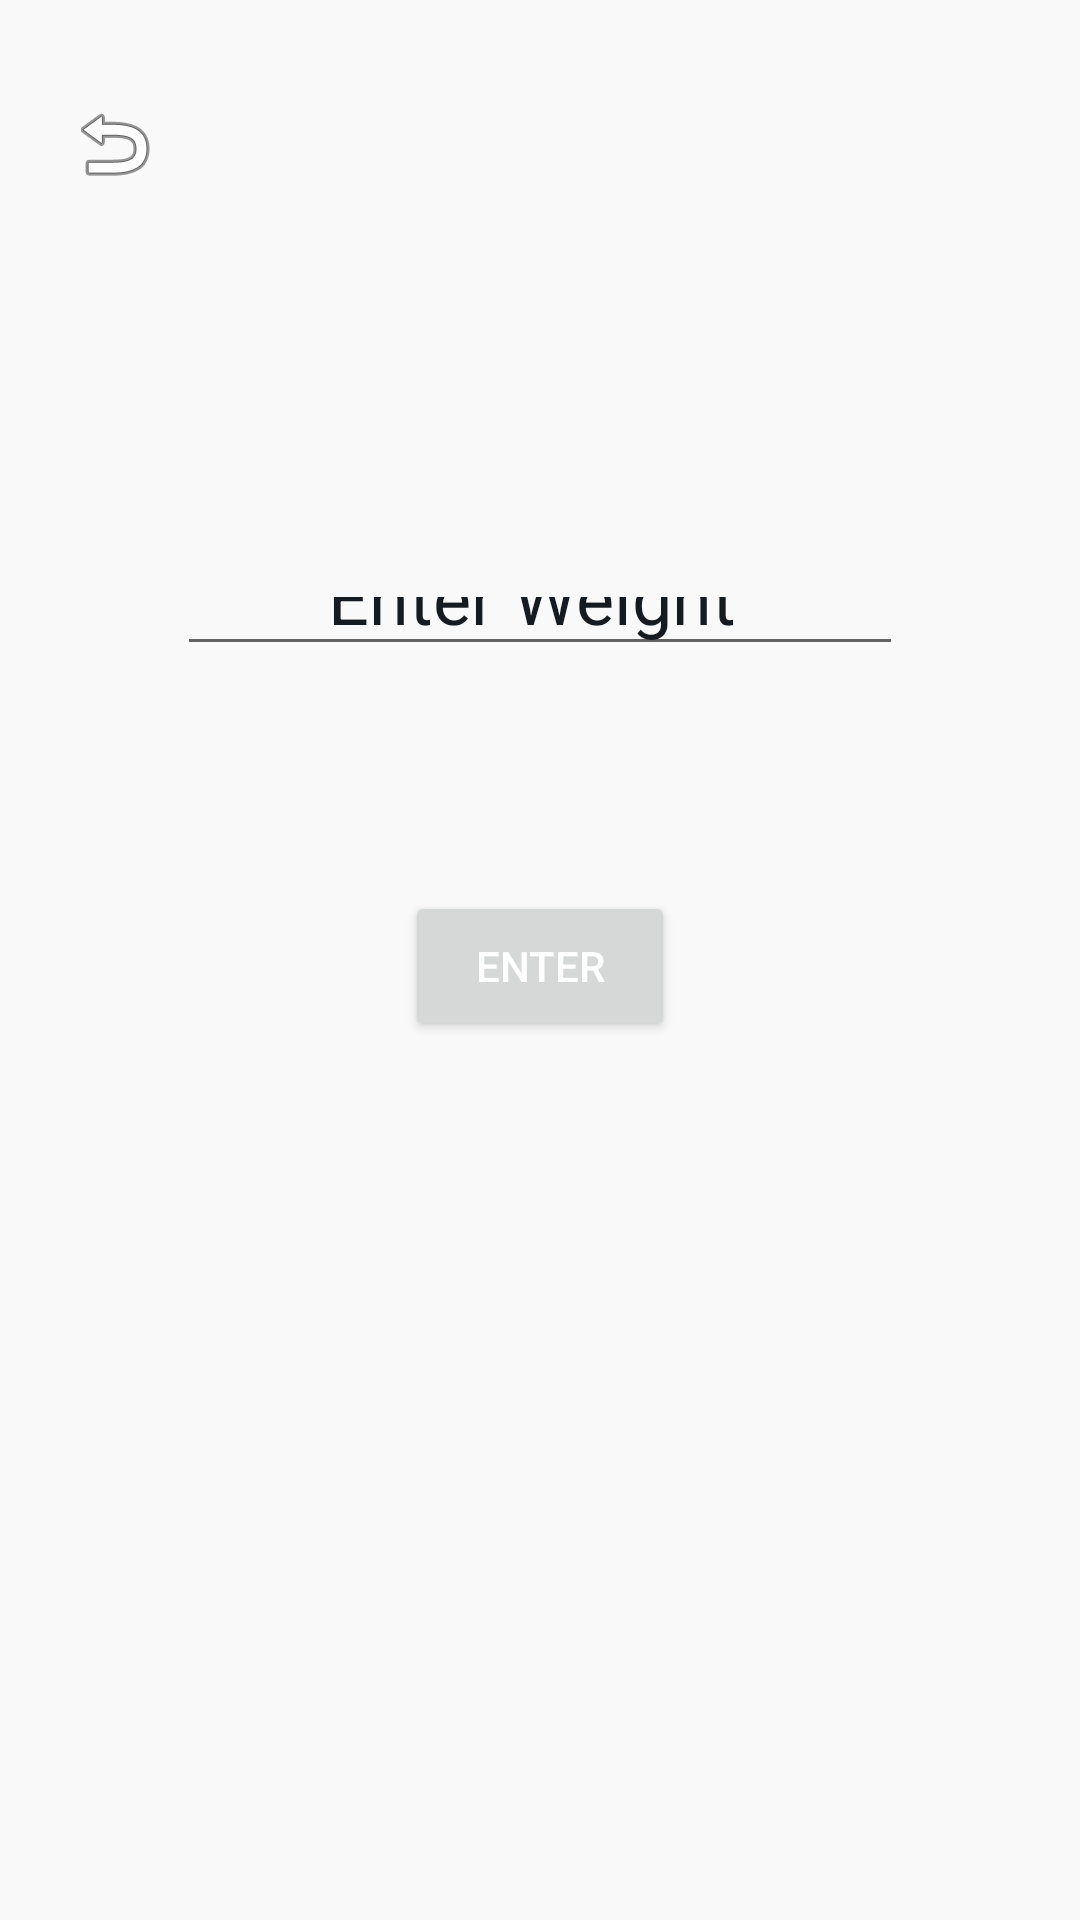

Locate icon controls on the screen. Image size 1080x1920, boxes as detection(x1, y1, x2, y2).
revert: detection(81, 113, 150, 176)
